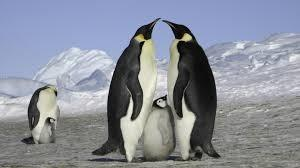emporer: (89, 12, 163, 160), (159, 15, 224, 164)
